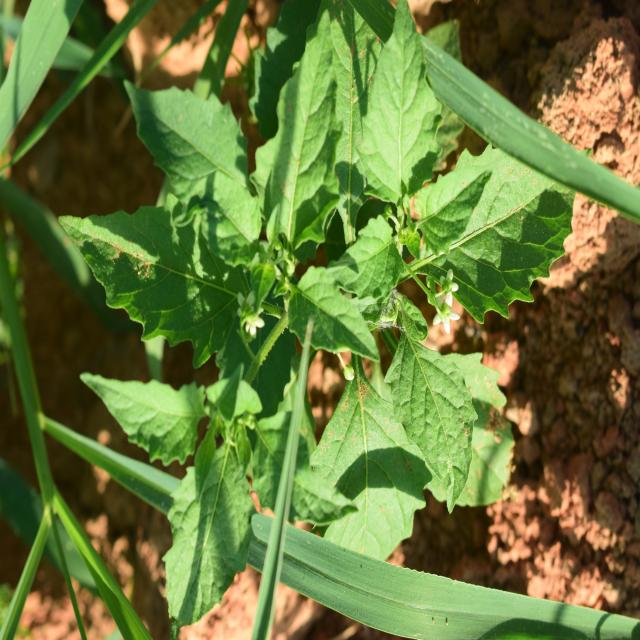Black_nightshade: (119, 44, 551, 515)
